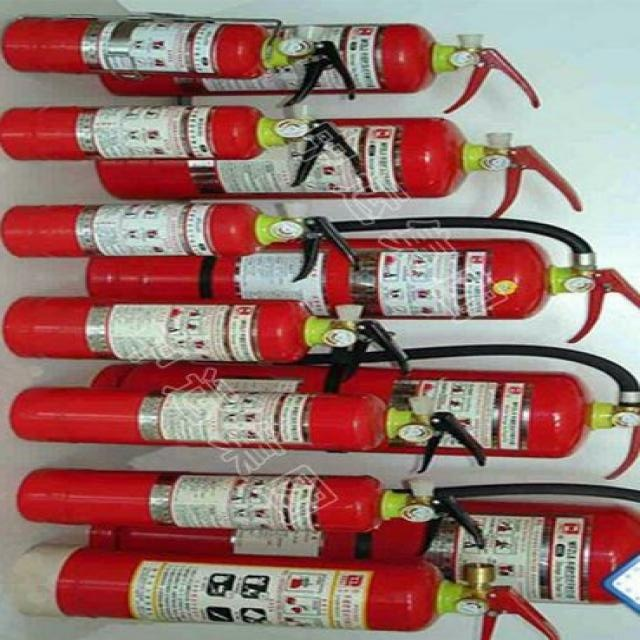fire extinguisher: (4, 15, 639, 638)
